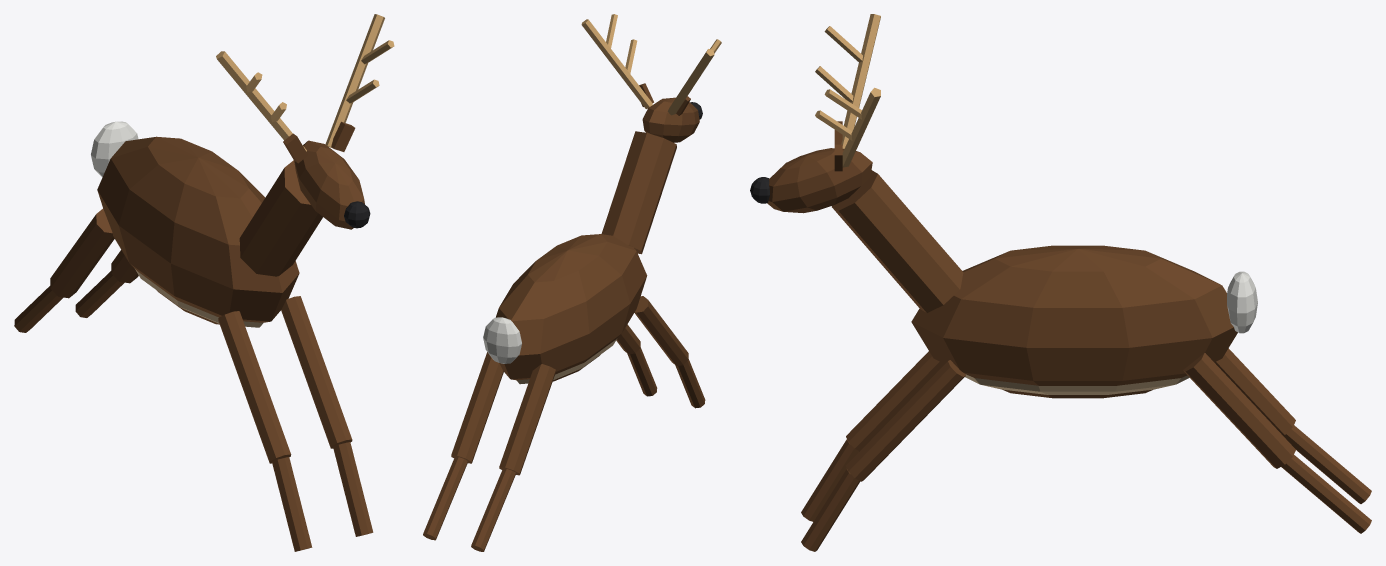
File: SM_deer.fbx
3 views of the same model, side by side, from view 1: azimuth 30°, elevation 25°; view 2: azimuth 150°, elevation 25°; view 3: azimuth 270°, elevation 25° (orthographic). The views are drawn at different scales.
Visible parts, largest first — view 1: SM_deer; view 2: SM_deer; view 3: SM_deer.
Boxes of the visible parts, x1=… form: SM_deer: x1=14, y1=14, x2=394, y2=551; SM_deer: x1=423, y1=14, x2=721, y2=551; SM_deer: x1=750, y1=14, x2=1371, y2=551.
Bounding box in the file's own units: 0.7167 × 1.99 × 2.31.
